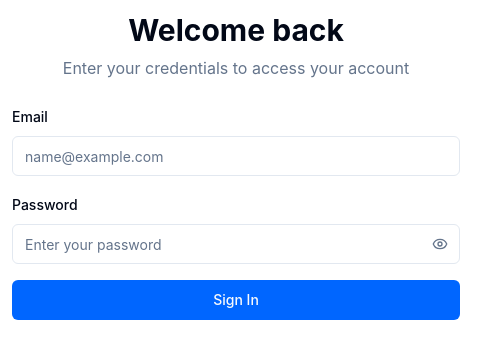
Test case: 2.1-COMPONENT: LoginForm Component › AuthContext Integration › [P1] 2.1-COMPONENT-013: should show loading state during login
// Fill in form
Type "test@test.com" into the field labelled "Email" at (236, 156), box x1=12 y1=136 x2=460 y2=176
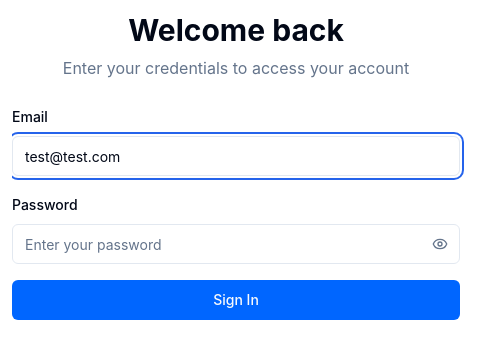
Type "Password123!" into the password field labelled "Password" at (236, 244), box x1=12 y1=224 x2=460 y2=264
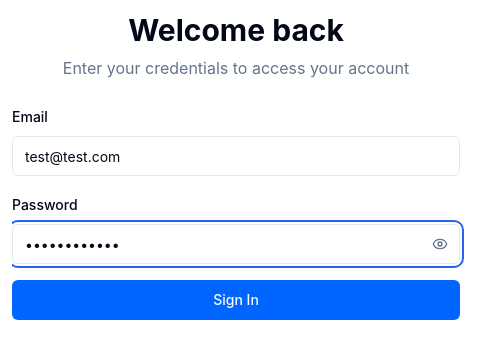
// User submits form
Click the button "Sign In" at (236, 300), box x1=12 y1=280 x2=460 y2=320
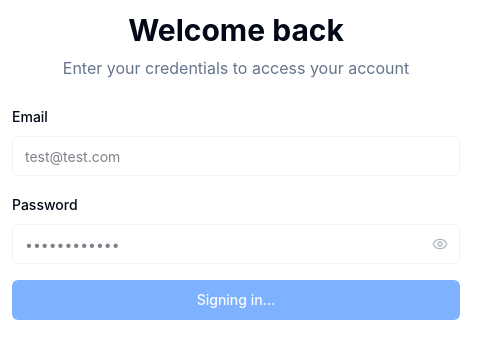
Expected: the button "Signing in..." is shown, x1=12 y1=280 x2=460 y2=320
